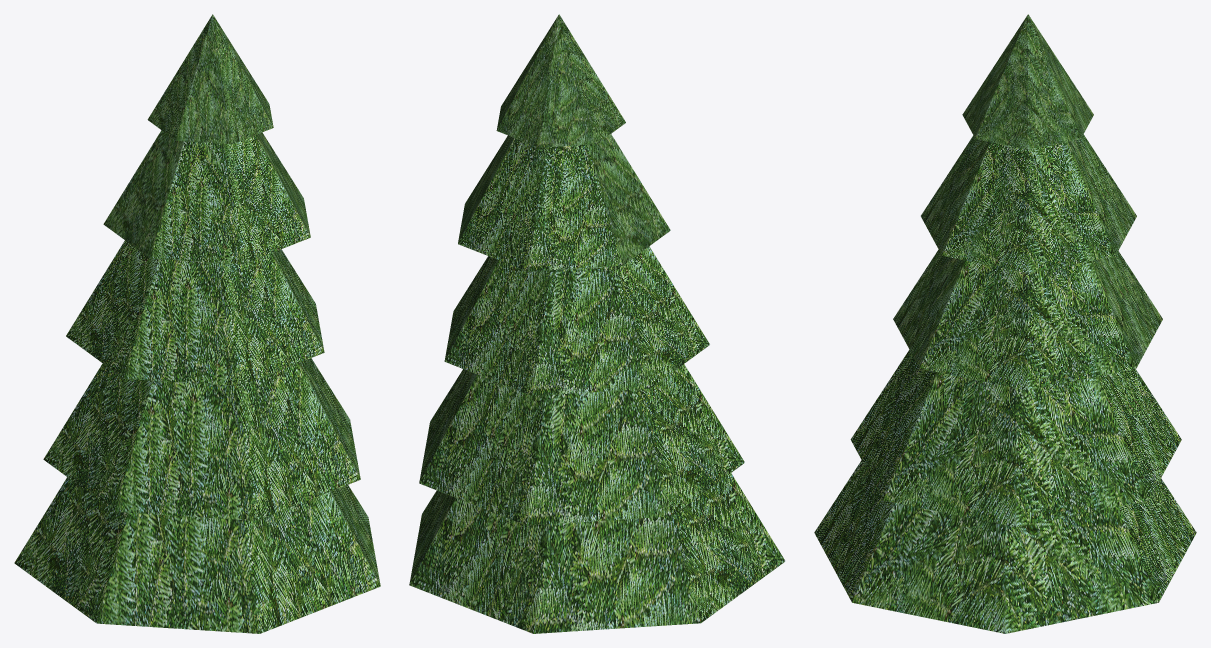
File: low poly pine tree.fbx
The picture shows the model from 3 angles, left to right: view 1: azimuth 30°, elevation 25°; view 2: azimuth 150°, elevation 25°; view 3: azimuth 270°, elevation 25°; orthographic projection. The views are drawn at different scales.
Parts seen in each view (by area): view 1: Cone, Cone_1, Cone_2, Cone_3, Cone_4; view 2: Cone, Cone_1, Cone_2, Cone_3, Cone_4; view 3: Cone_1, Cone, Cone_2, Cone_3, Cone_4.
Boxes of the visible parts, x1,y1,x2,y2 form: Cone: [14, 477, 380, 633]; Cone_1: [43, 358, 360, 520]; Cone_2: [66, 240, 324, 386]; Cone_3: [103, 130, 310, 264]; Cone_4: [147, 14, 273, 144]; Cone: [409, 473, 785, 633]; Cone_1: [419, 364, 744, 525]; Cone_2: [444, 246, 709, 395]; Cone_3: [458, 134, 670, 271]; Cone_4: [496, 14, 625, 147]; Cone_1: [850, 350, 1181, 527]; Cone: [814, 460, 1196, 633]; Cone_2: [893, 249, 1162, 390]; Cone_3: [921, 134, 1136, 273]; Cone_4: [962, 14, 1093, 149].
Bounding box in the file's own units: 258 × 451 × 265.
Materials: 2 (2 with a texture image).
